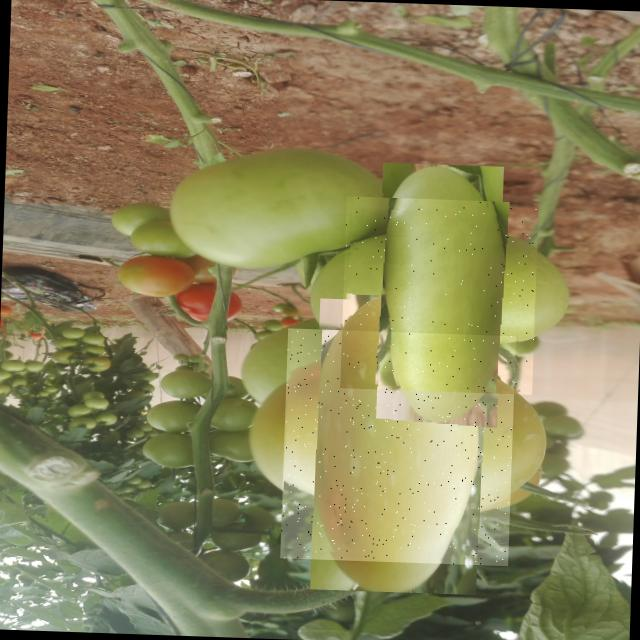Unripe Tomato: (280, 328, 516, 566), (340, 196, 538, 394)
